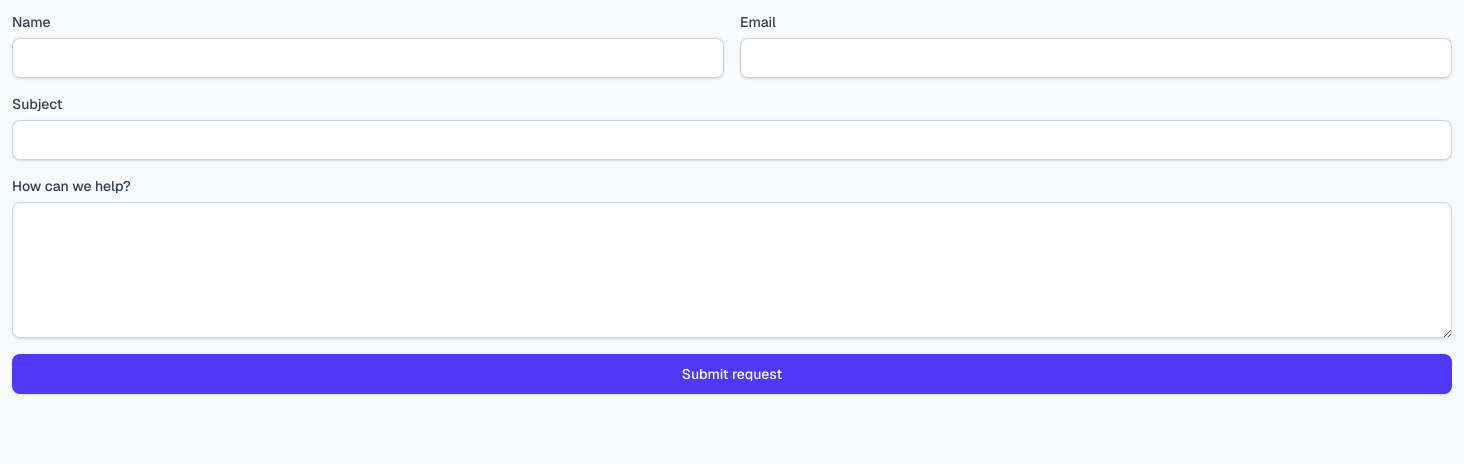
Test: TicketForm › shows the server error message
Type "Jane" into the field labelled "Name" at (368, 58), box x1=12 y1=38 x2=724 y2=78
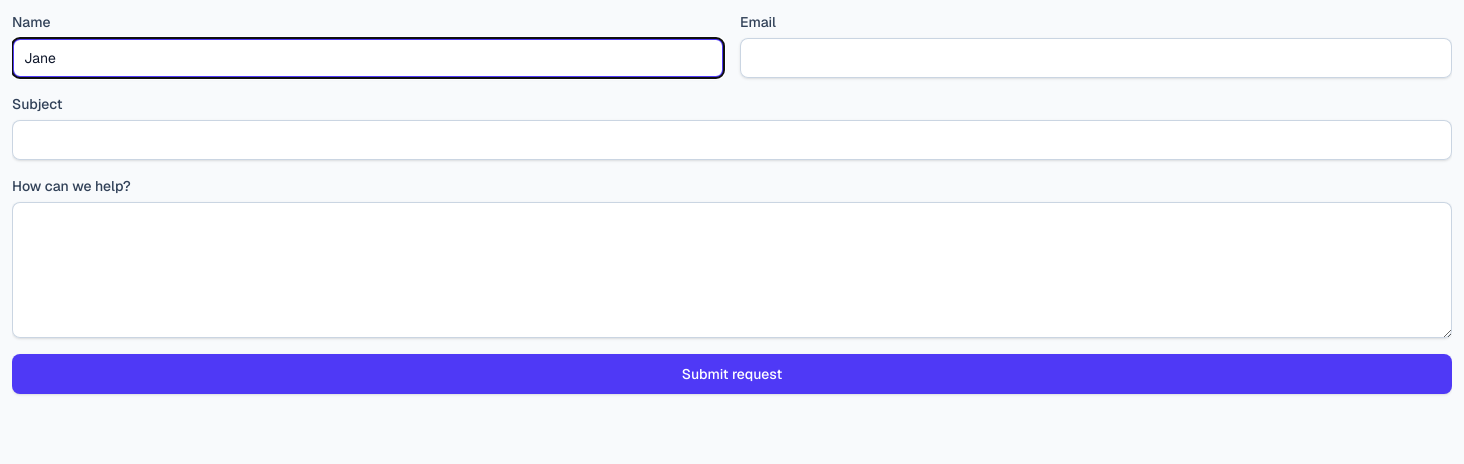
Type "jane@example.com" into the field labelled "Email" at (1096, 58), box x1=740 y1=38 x2=1452 y2=78
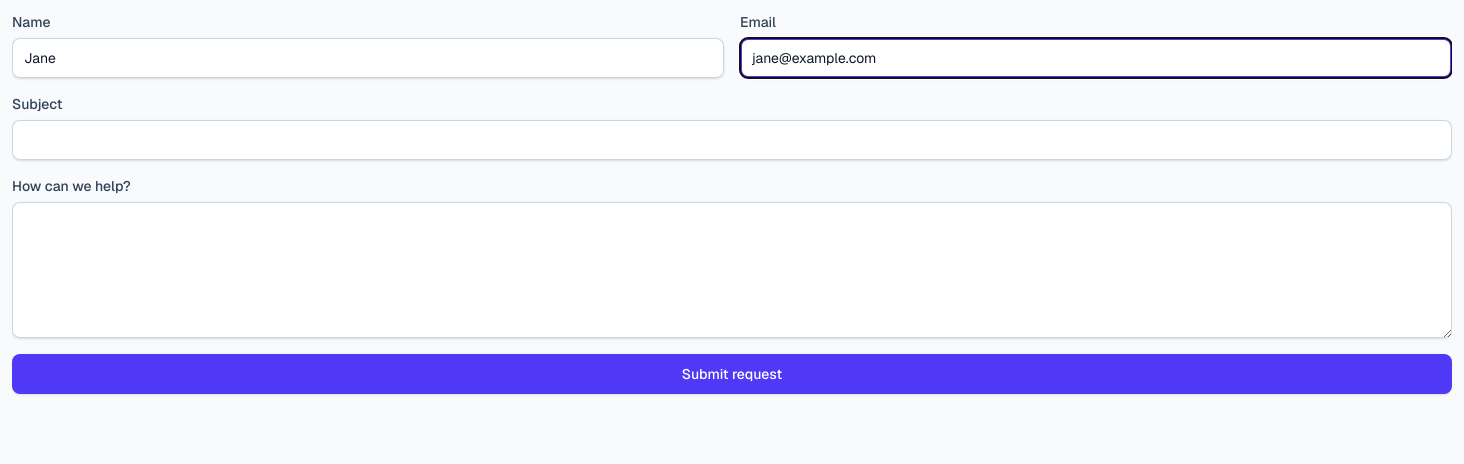
Type "Help" into the field labelled "Subject" at (732, 140), box x1=12 y1=120 x2=1452 y2=160
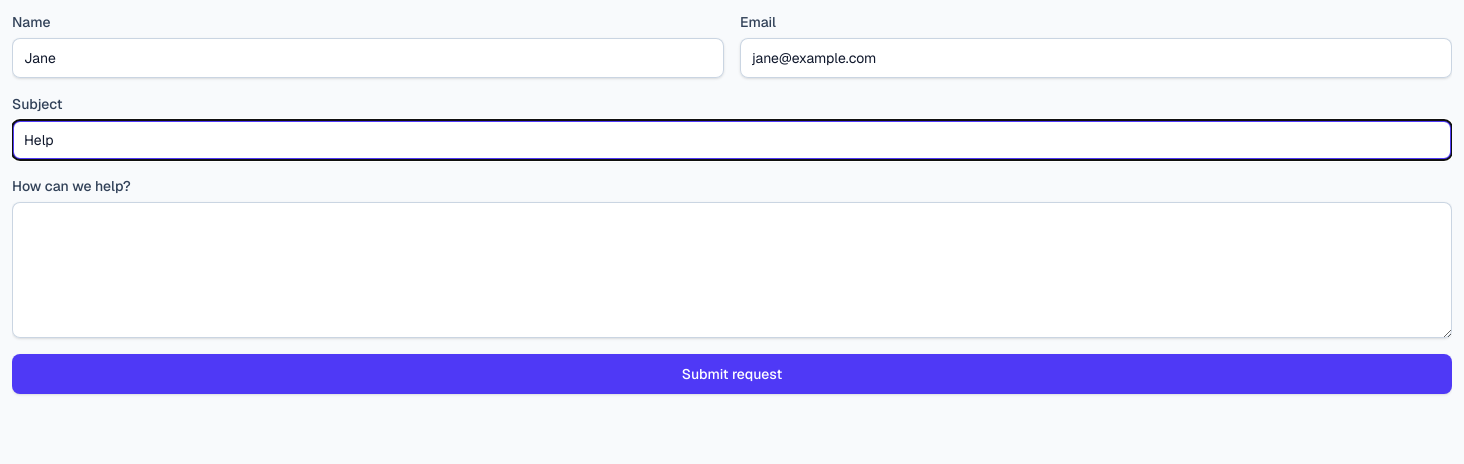
Type "Something is broken" into the text box labelled "How can we help?" at (732, 270), box x1=12 y1=202 x2=1452 y2=338
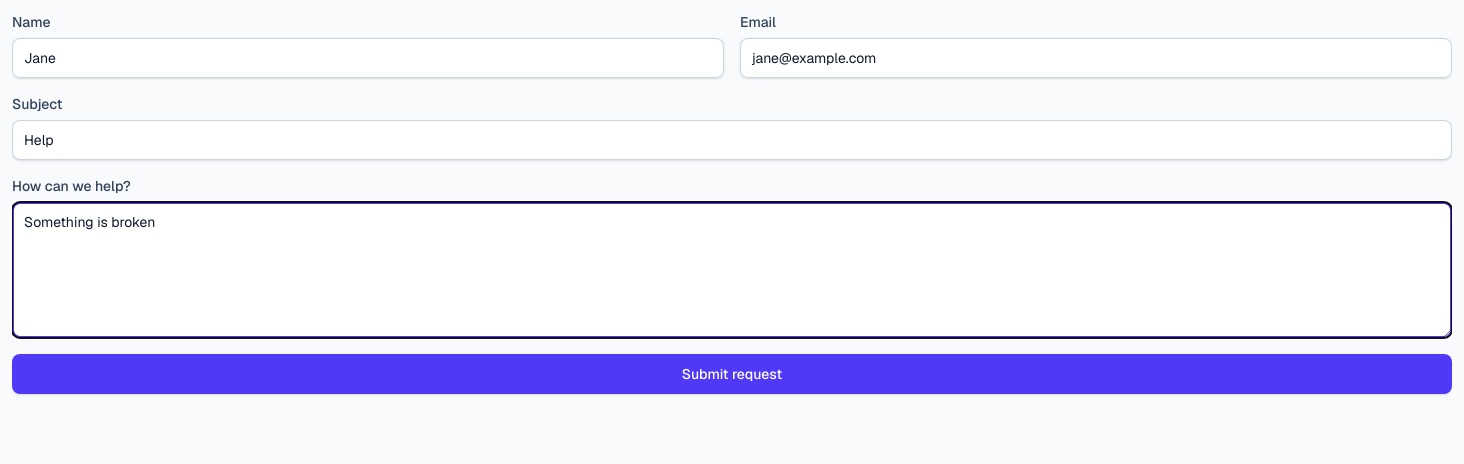
Click the button "Submit request" at (732, 374), box x1=12 y1=354 x2=1452 y2=394
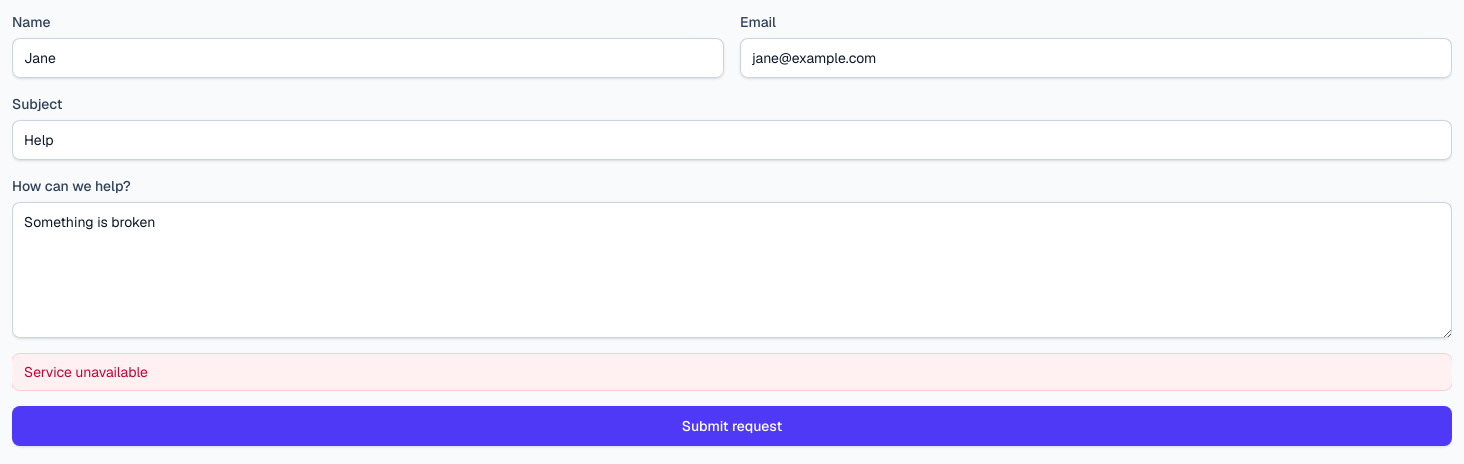
Expected: the message reads "Service unavailable", x1=24 y1=363 x2=148 y2=381
